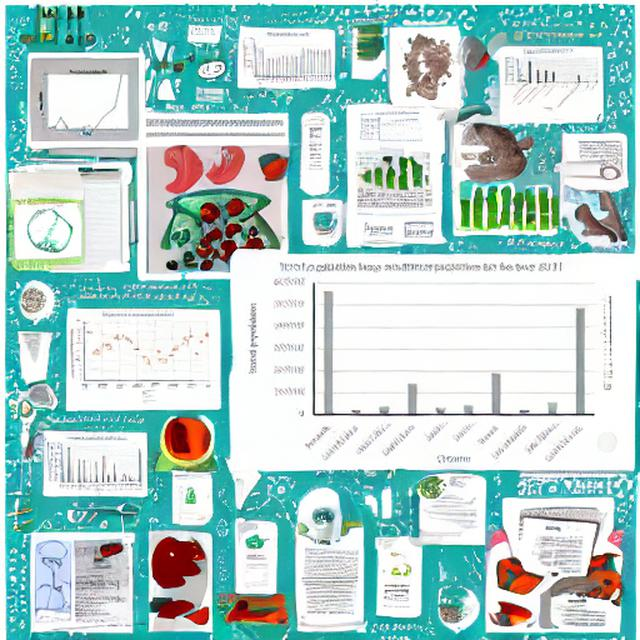Graph: (244, 257, 598, 466), (68, 310, 215, 395), (34, 62, 139, 141), (502, 48, 601, 112), (47, 436, 144, 494), (243, 33, 334, 85), (368, 113, 425, 147)
